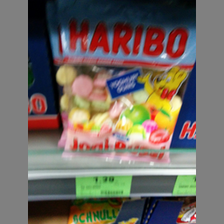candy: (58, 2, 196, 164)
